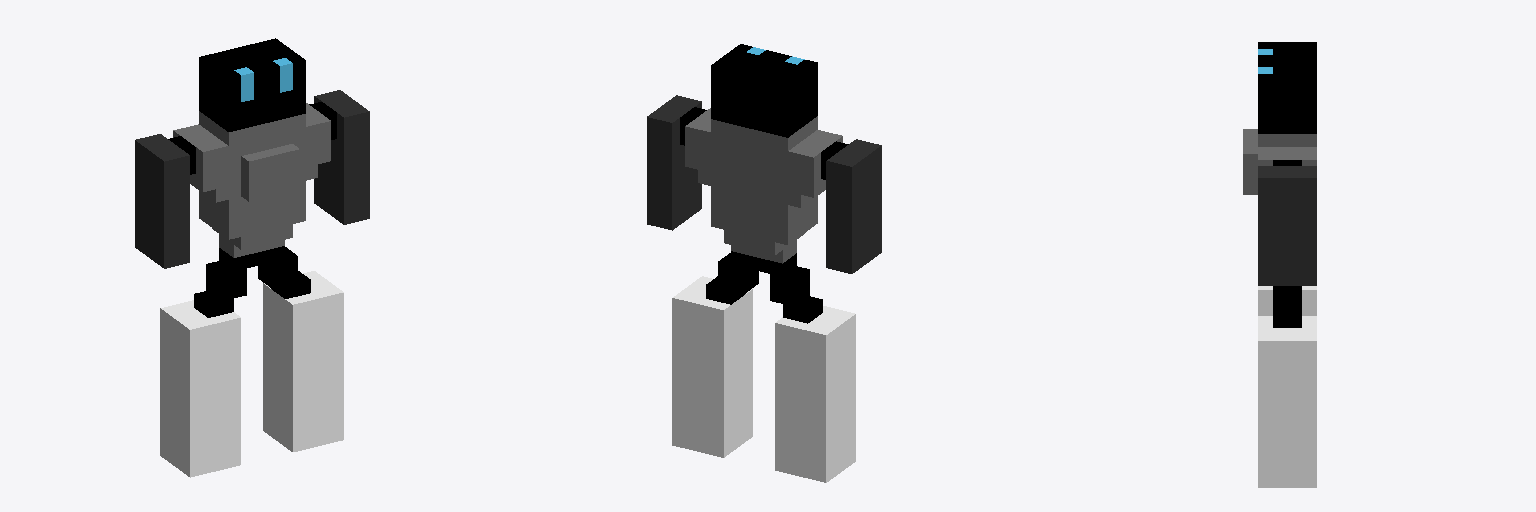
3 views of the same model, side by side, from view 1: azimuth 30°, elevation 25°; view 2: azimuth 150°, elevation 25°; view 3: azimuth 270°, elevation 25° (orthographic).
Visible parts, largest first — view 1: Model; view 2: Model; view 3: Model.
Part boxes in pixels (bbox=[...]): Model: bbox=[135, 38, 369, 477]; Model: bbox=[647, 44, 881, 482]; Model: bbox=[1243, 42, 1316, 487].
Size of the model in its own units: 12.8 by 23.2 by 4.
1 materials, 1 textured.